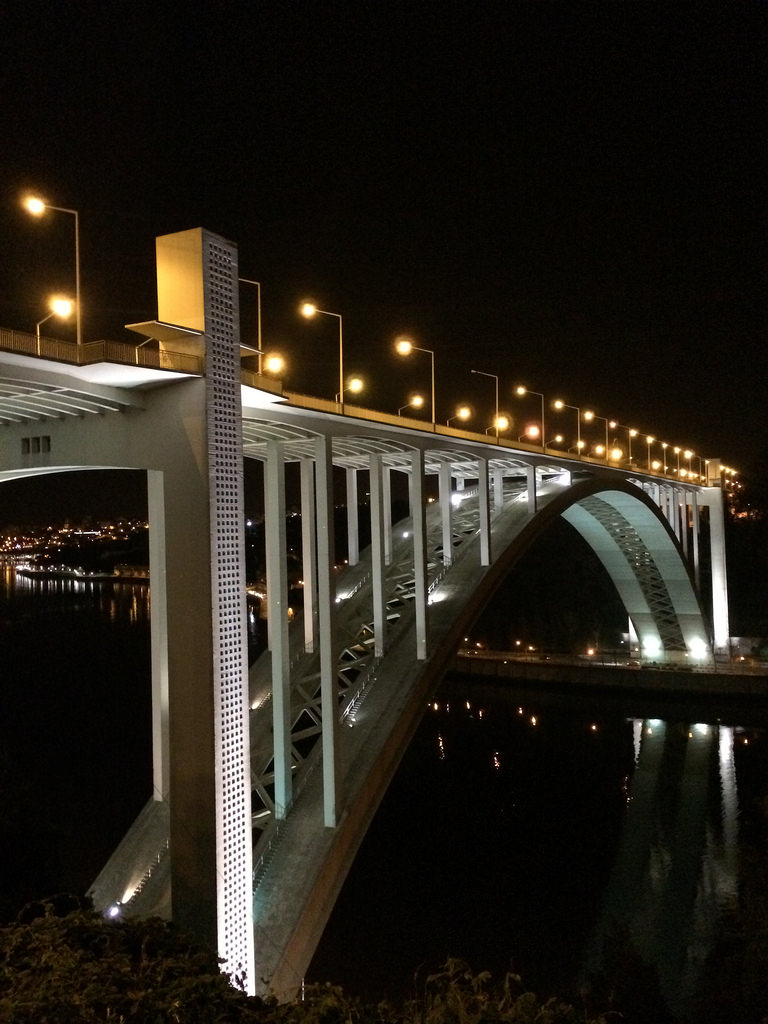arrabida: (0, 223, 767, 1006)
